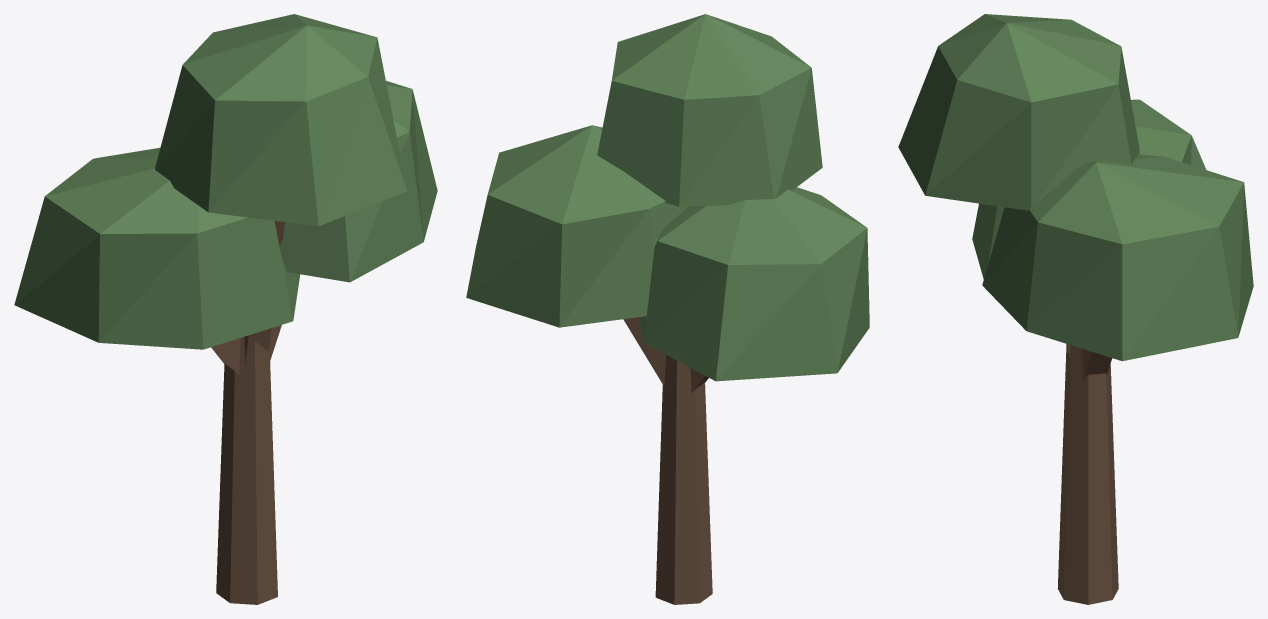
The model's file is Kit_IronLowlands_Tree_LOD0.glb.
3 renders of one model, left to right at view 1: azimuth 30°, elevation 25°; view 2: azimuth 150°, elevation 25°; view 3: azimuth 270°, elevation 25°, orthographic. The views are drawn at different scales.
Parts seen in each view (by area): view 1: Kit_IronLowlands_Tree_LOD0_IronLowlands_leaf_0_-1, Kit_IronLowlands_Tree_LOD0_IronLowlands_leaf_-1_0, Kit_IronLowlands_Tree_LOD0_Warm timber_-1_0, Kit_IronLowlands_Tree_LOD0_IronLowlands_leaf_0_0, Kit_IronLowlands_Tree_LOD0_Warm timber_0_-1; view 2: Kit_IronLowlands_Tree_LOD0_IronLowlands_leaf_-1_0, Kit_IronLowlands_Tree_LOD0_IronLowlands_leaf_0_-1, Kit_IronLowlands_Tree_LOD0_IronLowlands_leaf_0_0, Kit_IronLowlands_Tree_LOD0_Warm timber_-1_0, Kit_IronLowlands_Tree_LOD0_Warm timber_0_0; view 3: Kit_IronLowlands_Tree_LOD0_IronLowlands_leaf_0_0, Kit_IronLowlands_Tree_LOD0_IronLowlands_leaf_0_-1, Kit_IronLowlands_Tree_LOD0_Warm timber_-1_0, Kit_IronLowlands_Tree_LOD0_IronLowlands_leaf_-1_0, Kit_IronLowlands_Tree_LOD0_Warm timber_0_0.
Boxes of the visible parts, x1,y1,x2,y2 form: Kit_IronLowlands_Tree_LOD0_IronLowlands_leaf_0_-1: (155, 14, 406, 226); Kit_IronLowlands_Tree_LOD0_IronLowlands_leaf_-1_0: (14, 147, 300, 349); Kit_IronLowlands_Tree_LOD0_Warm timber_-1_0: (211, 336, 277, 604); Kit_IronLowlands_Tree_LOD0_IronLowlands_leaf_0_0: (279, 81, 437, 282); Kit_IronLowlands_Tree_LOD0_Warm timber_0_-1: (244, 221, 284, 364); Kit_IronLowlands_Tree_LOD0_IronLowlands_leaf_-1_0: (638, 187, 869, 381); Kit_IronLowlands_Tree_LOD0_IronLowlands_leaf_0_-1: (597, 14, 822, 206); Kit_IronLowlands_Tree_LOD0_IronLowlands_leaf_0_0: (466, 125, 688, 327); Kit_IronLowlands_Tree_LOD0_Warm timber_-1_0: (655, 355, 712, 604); Kit_IronLowlands_Tree_LOD0_Warm timber_0_0: (623, 317, 665, 386); Kit_IronLowlands_Tree_LOD0_IronLowlands_leaf_0_0: (982, 154, 1253, 361); Kit_IronLowlands_Tree_LOD0_IronLowlands_leaf_0_-1: (898, 14, 1139, 210); Kit_IronLowlands_Tree_LOD0_Warm timber_-1_0: (1057, 344, 1118, 604); Kit_IronLowlands_Tree_LOD0_IronLowlands_leaf_-1_0: (972, 99, 1206, 279); Kit_IronLowlands_Tree_LOD0_Warm timber_0_0: (1082, 349, 1112, 380).
Size of the model in its own units: 19.36 by 26.9 by 15.02.
